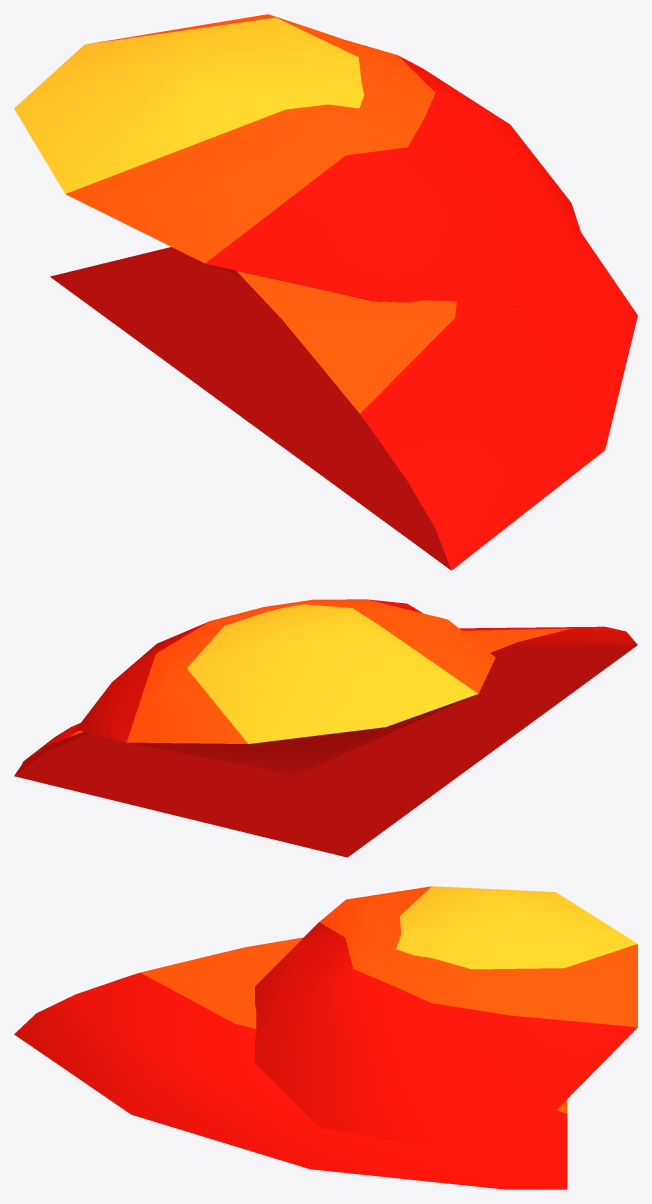
The model's file is shot_zflame_230.glb.
3 renders of one model, top to bottom at view 1: azimuth 30°, elevation 25°; view 2: azimuth 150°, elevation 25°; view 3: azimuth 270°, elevation 25°, orthographic. The views are drawn at different scales.
Parts seen in each view (by area): view 1: zflame_1_billow4_b230, zflame_1_bed_b230; view 2: zflame_1_billow4_b230, zflame_1_bed_b230; view 3: zflame_1_billow4_b230, zflame_1_bed_b230.
Part boxes in pixels (x1,y1,x2,y2): zflame_1_billow4_b230: (14,14,595,306); zflame_1_bed_b230: (50,233,637,570); zflame_1_billow4_b230: (76,599,495,775); zflame_1_bed_b230: (14,626,637,857); zflame_1_billow4_b230: (255,886,637,1147); zflame_1_bed_b230: (14,937,567,1189).
Size of the model in its own units: 8 by 3.39 by 11.52.
